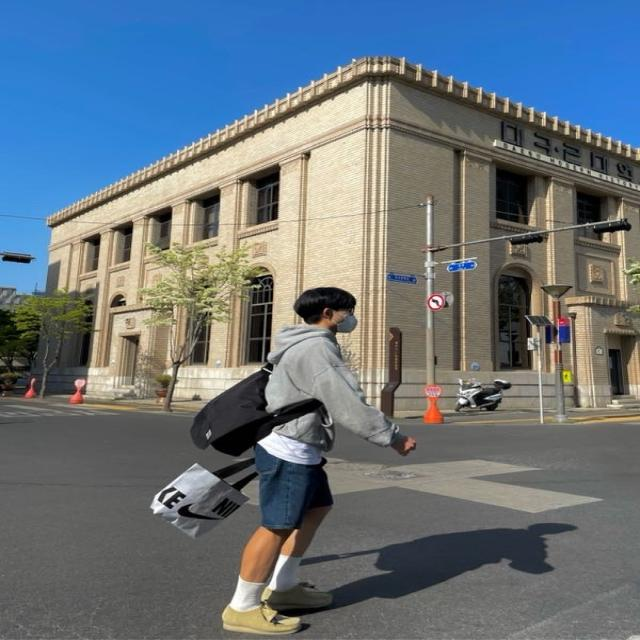hoodies: (260, 323, 392, 458)
shortpants: (248, 440, 340, 531)
